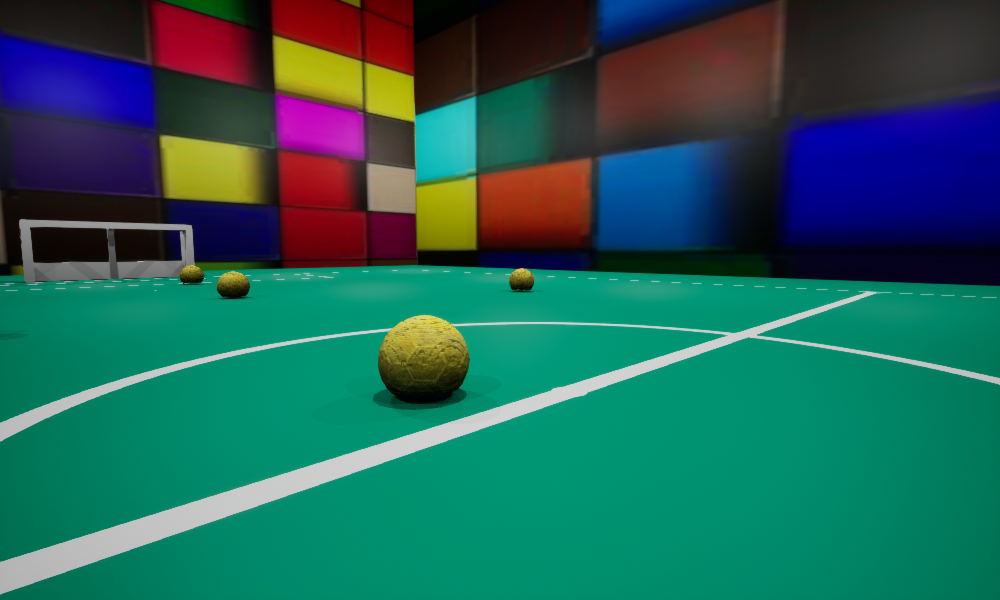b: (378, 315, 469, 401), (217, 271, 249, 296), (509, 268, 533, 291), (179, 265, 203, 284)
g: (19, 219, 194, 282)
